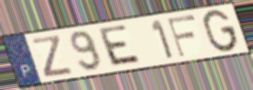1: (150, 18, 176, 61)
9: (69, 29, 104, 73)
E: (97, 23, 144, 68)
F: (165, 13, 198, 59)
G: (201, 9, 240, 54)
Z: (30, 34, 74, 79)
